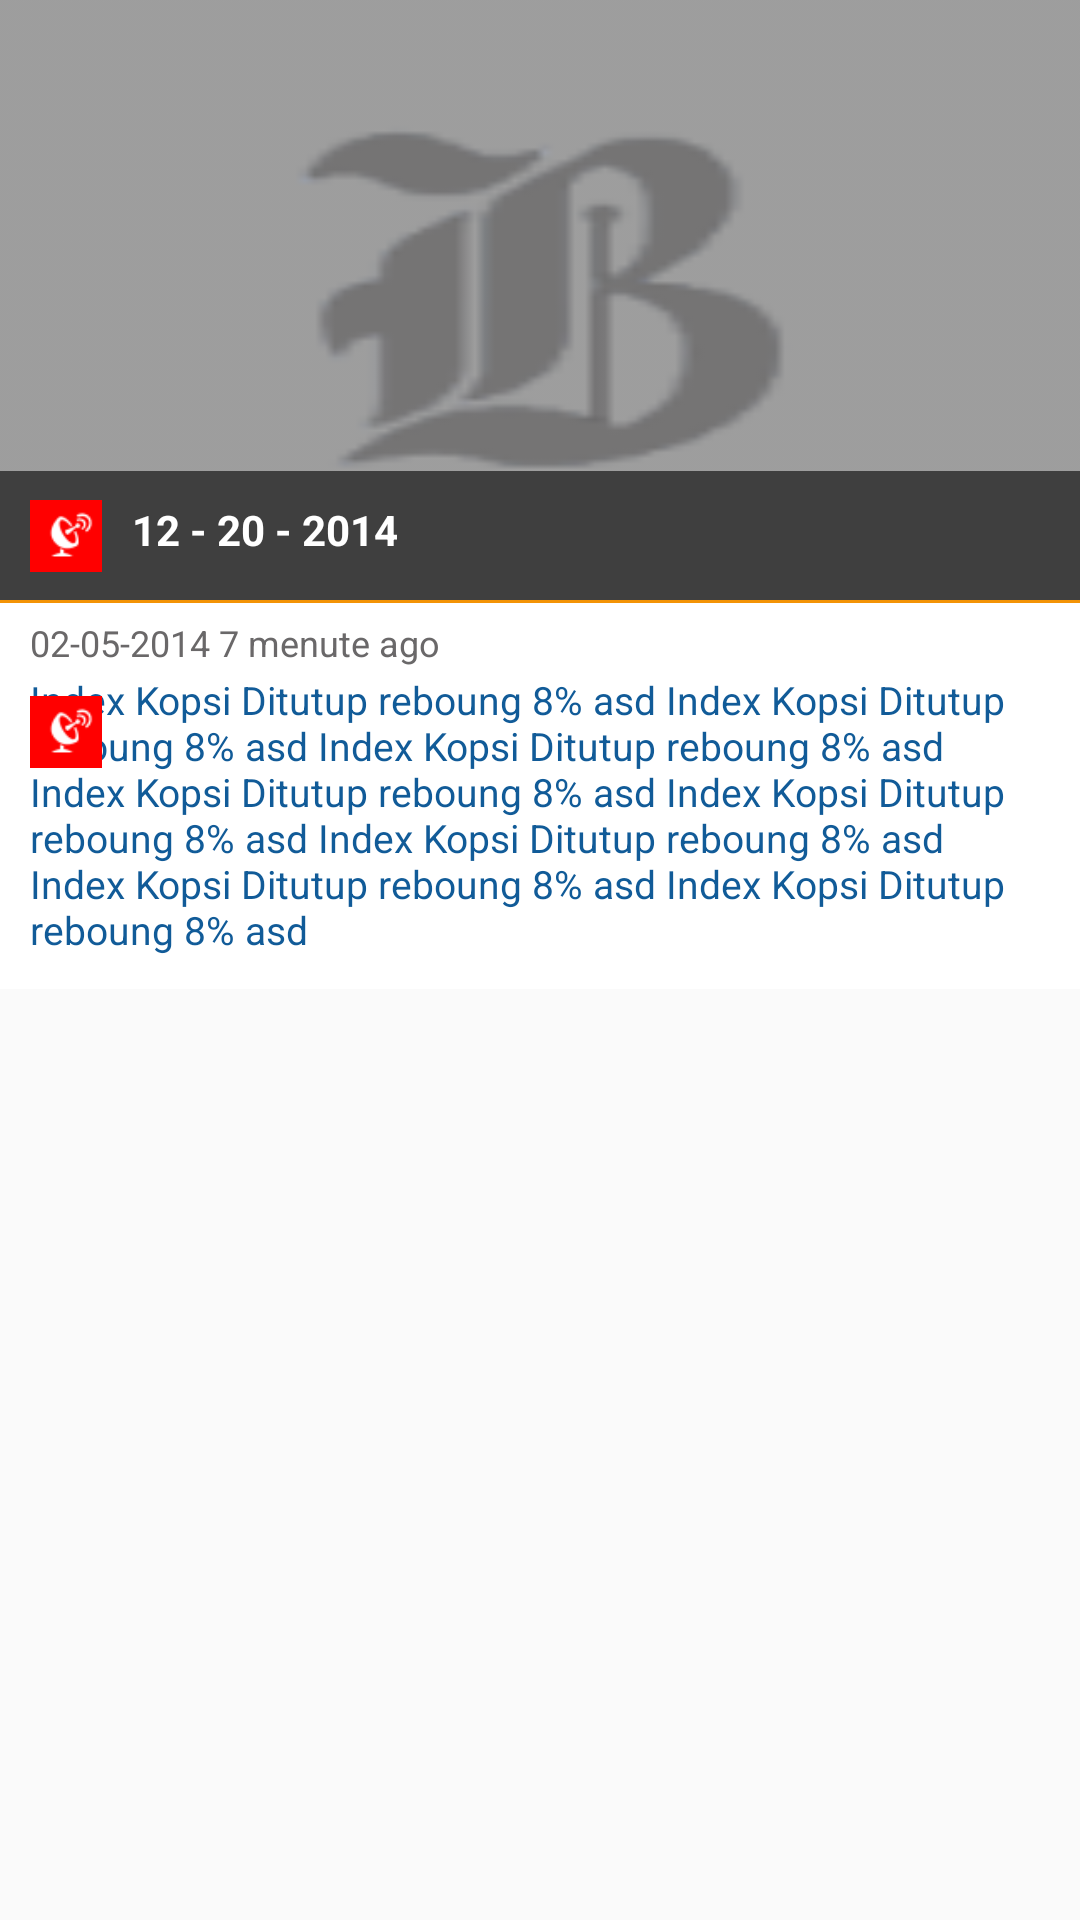

Where to tap for icons on this 1080 x 1920 app screen, as [x,y]:
live: [66,536], [66,726]
